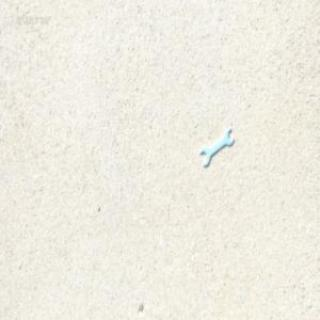Wrenchtrack_idkeyframe: (200, 128, 233, 166)
